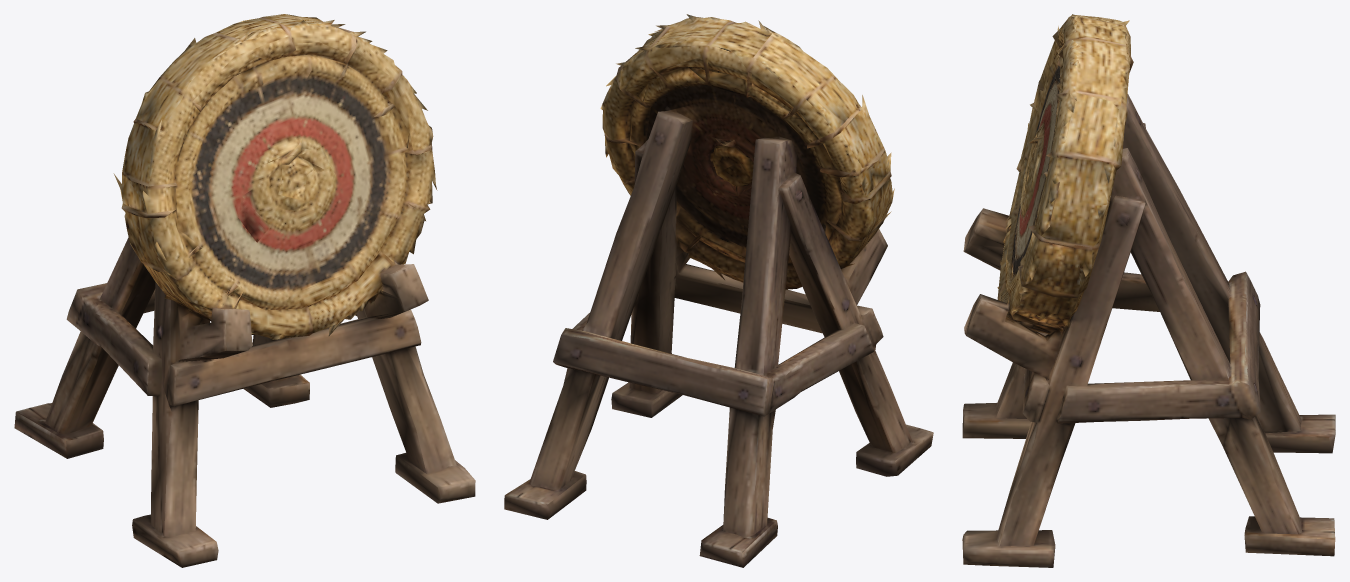
File: ArcheryTarget.gltf
The picture shows the model from 3 angles, left to right: view 1: azimuth 30°, elevation 25°; view 2: azimuth 150°, elevation 25°; view 3: azimuth 270°, elevation 25°; orthographic projection. The views are drawn at different scales.
Visible parts, largest first — view 1: lo; view 2: lo; view 3: lo.
Boxes of the visible parts, x1,y1,x2,y2 form: lo: (14,14,475,567); lo: (504,14,933,567); lo: (962,14,1335,567).
Size of the model in its own units: 1.29 by 1.89 by 1.36.
1 material, 1 textured.
